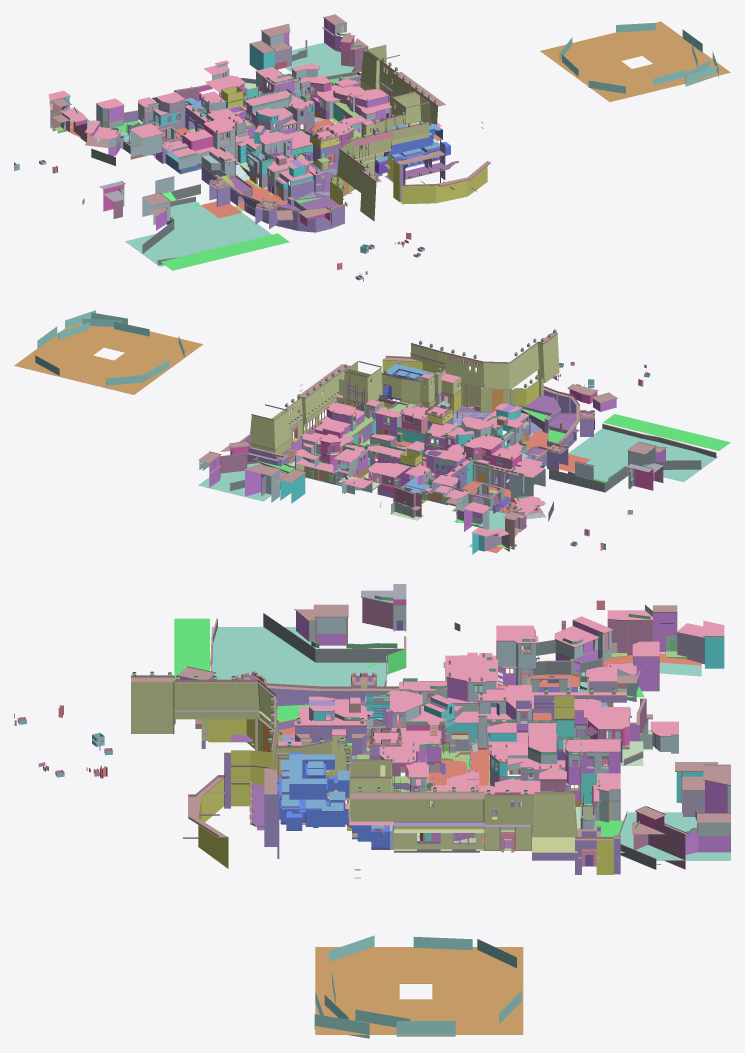
File: de_mirage.obj
The picture shows the model from 3 angles, top to bottom: view 1: azimuth 30°, elevation 25°; view 2: azimuth 150°, elevation 25°; view 3: azimuth 270°, elevation 25°; orthographic projection. The views are drawn at different scales.
Visible parts, largest first — view 1: de_mirage_custom; view 2: de_mirage_custom; view 3: de_mirage_custom.
Boxes of the visible parts, box(x1,y1,x2,y2) form: de_mirage_custom: box(14, 14, 730, 281); de_mirage_custom: box(14, 310, 730, 554); de_mirage_custom: box(14, 584, 730, 1038).
Size of the model in its own units: 10515 by 1146 by 7067.
